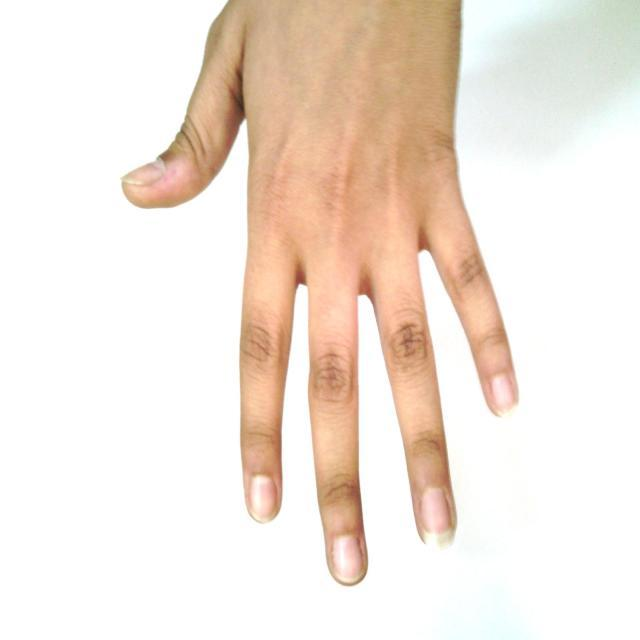Fingernail: (421, 488, 453, 549), (333, 536, 363, 583), (251, 476, 276, 522), (123, 161, 164, 186), (492, 376, 516, 414)
